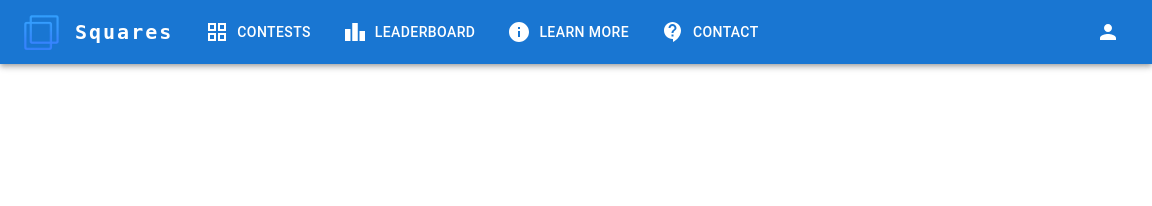
Test: Header › opens the user menu when the avatar button is clicked
The width and height of the screenshot is (1152, 206).
Click the button named "account".
click(1108, 32)  # box [1088,12,1128,52]
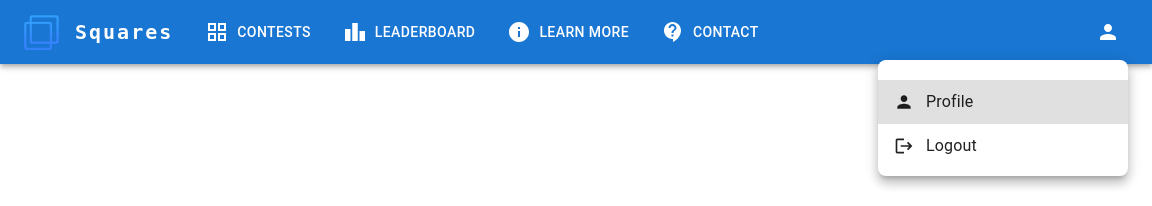
Check: the menu item "Logout" is shown, box [894,136,977,156]
